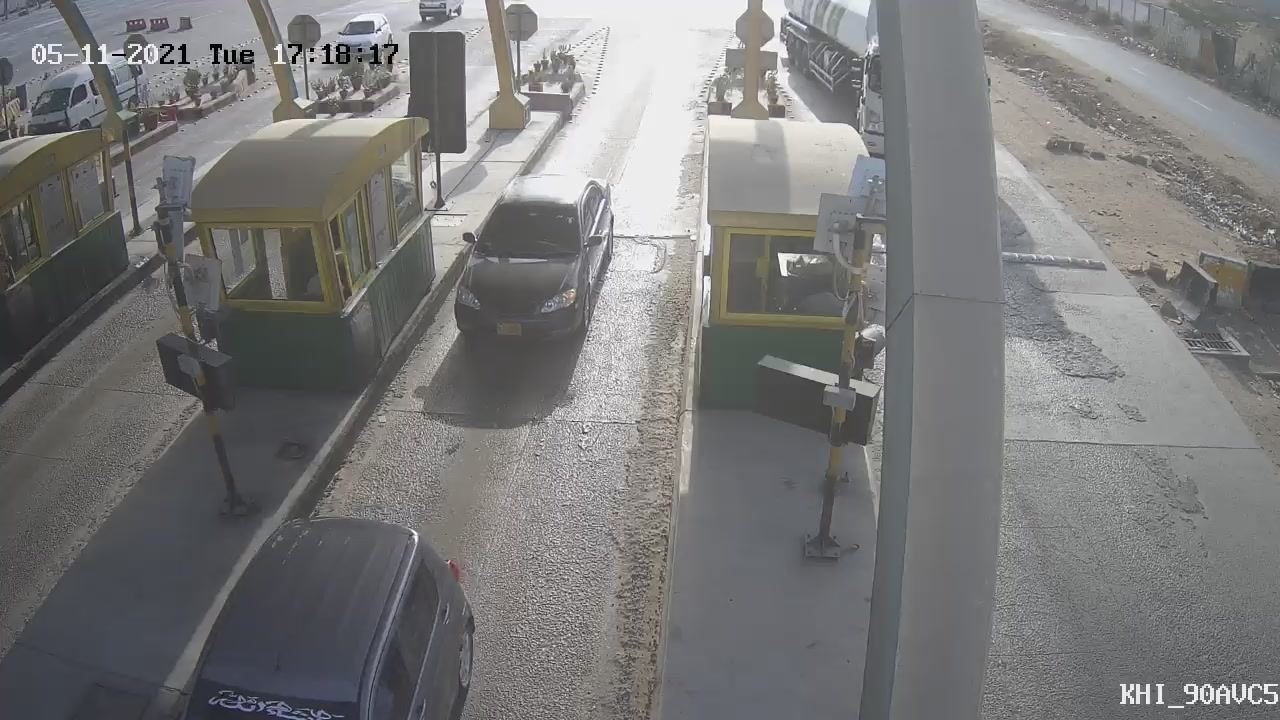F1: (426, 155, 630, 375)
